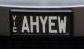A: (21, 15, 30, 34)
E: (48, 15, 58, 33)
H: (29, 15, 40, 33)
W: (57, 15, 67, 34)
Y: (39, 15, 48, 33)
